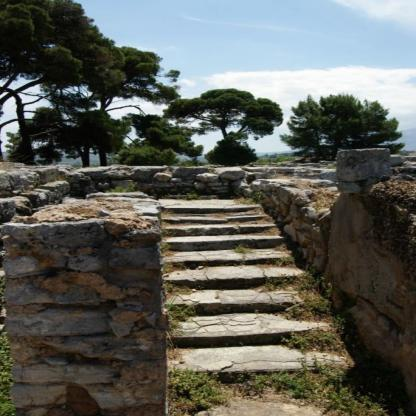stair: (161, 189, 361, 415)
